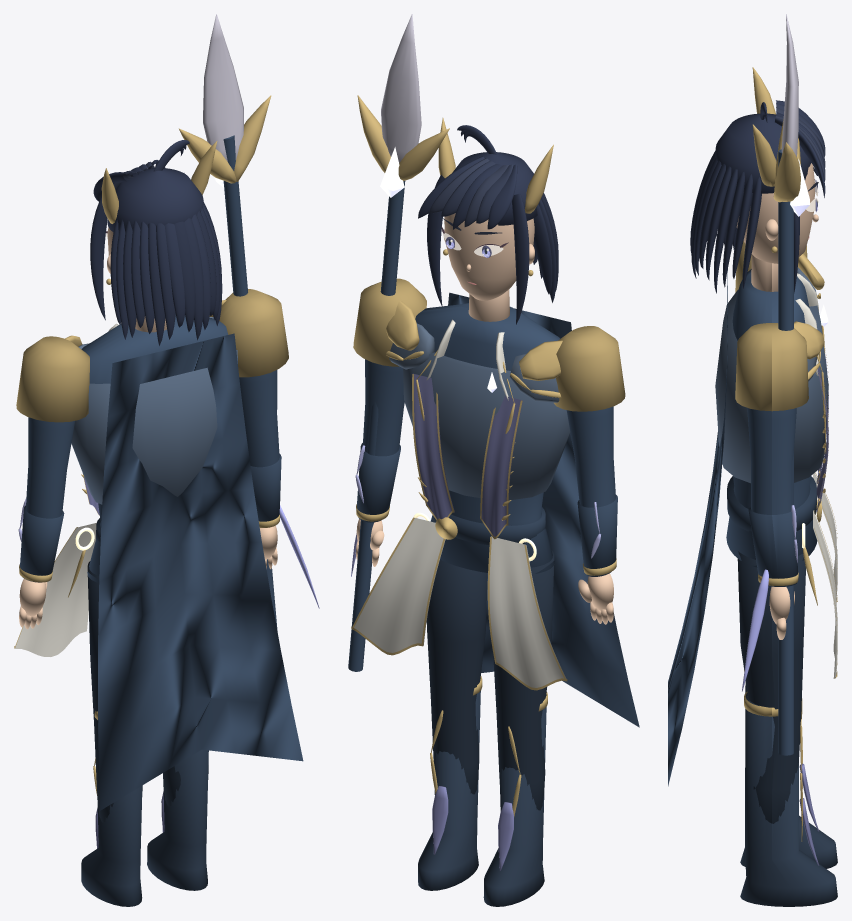
The model's file is character_13.glb.
The picture shows the model from 3 angles, left to right: view 1: azimuth 30°, elevation 25°; view 2: azimuth 150°, elevation 25°; view 3: azimuth 270°, elevation 25°; orthographic projection. The views are drawn at different scales.
Parts seen in each view (by area): view 1: _MeshInstance3D_3850, _MeshInstance3D_3836, _MeshInstance3D_3888, _MeshInstance3D_3862, _MeshInstance3D_3865, _MeshInstance3D_3857, _MeshInstance3D_3852, _MeshInstance3D_3837, _MeshInstance3D_3867, _MeshInstance3D_3889, _MeshInstance3D_3890, _MeshInstance3D_3832 (+8 smaller); view 2: _MeshInstance3D_3836, _MeshInstance3D_3850, _MeshInstance3D_3861, _MeshInstance3D_3832, _MeshInstance3D_3865, _MeshInstance3D_3888, _MeshInstance3D_3837, _MeshInstance3D_3839, _MeshInstance3D_3851, _MeshInstance3D_3862, _MeshInstance3D_3852, _MeshInstance3D_3857 (+25 smaller); view 3: _MeshInstance3D_3862, _MeshInstance3D_3865, _MeshInstance3D_3861, _MeshInstance3D_3888, _MeshInstance3D_3836, _MeshInstance3D_3867, _MeshInstance3D_3850, _MeshInstance3D_3832, _MeshInstance3D_3866, _MeshInstance3D_3875, _MeshInstance3D_3889, _MeshInstance3D_3890 (+16 smaller).
Boxes of the visible parts, <box> form: _MeshInstance3D_3850: <box>98,333,303,810</box>; _MeshInstance3D_3836: <box>71,350,237,504</box>; _MeshInstance3D_3888: <box>90,140,222,339</box>; _MeshInstance3D_3862: <box>147,749,208,890</box>; _MeshInstance3D_3865: <box>223,135,279,631</box>; _MeshInstance3D_3857: <box>16,336,89,422</box>; _MeshInstance3D_3852: <box>81,723,142,906</box>; _MeshInstance3D_3837: <box>15,522,96,656</box>; _MeshInstance3D_3867: <box>219,289,288,377</box>; _MeshInstance3D_3889: <box>110,207,220,340</box>; _MeshInstance3D_3890: <box>123,203,221,345</box>; _MeshInstance3D_3832: <box>81,315,228,582</box>; _MeshInstance3D_3836: <box>403,352,570,499</box>; _MeshInstance3D_3850: <box>448,292,639,727</box>; _MeshInstance3D_3861: <box>426,559,487,794</box>; _MeshInstance3D_3832: <box>415,303,560,573</box>; _MeshInstance3D_3865: <box>348,181,405,671</box>; _MeshInstance3D_3888: <box>418,125,556,324</box>; _MeshInstance3D_3837: <box>489,536,566,687</box>; _MeshInstance3D_3839: <box>354,517,445,652</box>; _MeshInstance3D_3851: <box>493,550,554,810</box>; _MeshInstance3D_3862: <box>418,691,480,890</box>; _MeshInstance3D_3852: <box>483,694,546,906</box>; _MeshInstance3D_3857: <box>554,326,625,411</box>; _MeshInstance3D_3862: <box>740,693,837,906</box>; _MeshInstance3D_3865: <box>747,149,796,755</box>; _MeshInstance3D_3861: <box>737,551,805,823</box>; _MeshInstance3D_3888: <box>693,100,825,293</box>; _MeshInstance3D_3836: <box>715,290,828,483</box>; _MeshInstance3D_3867: <box>735,323,808,411</box>; _MeshInstance3D_3850: <box>668,269,727,786</box>; _MeshInstance3D_3832: <box>726,269,817,567</box>; _MeshInstance3D_3866: <box>748,506,797,578</box>; _MeshInstance3D_3875: <box>736,163,818,263</box>; _MeshInstance3D_3889: <box>691,158,752,280</box>; _MeshInstance3D_3890: <box>690,153,744,287</box>.
Size of the model in its own units: 1.11 by 3.16 by 0.539.
